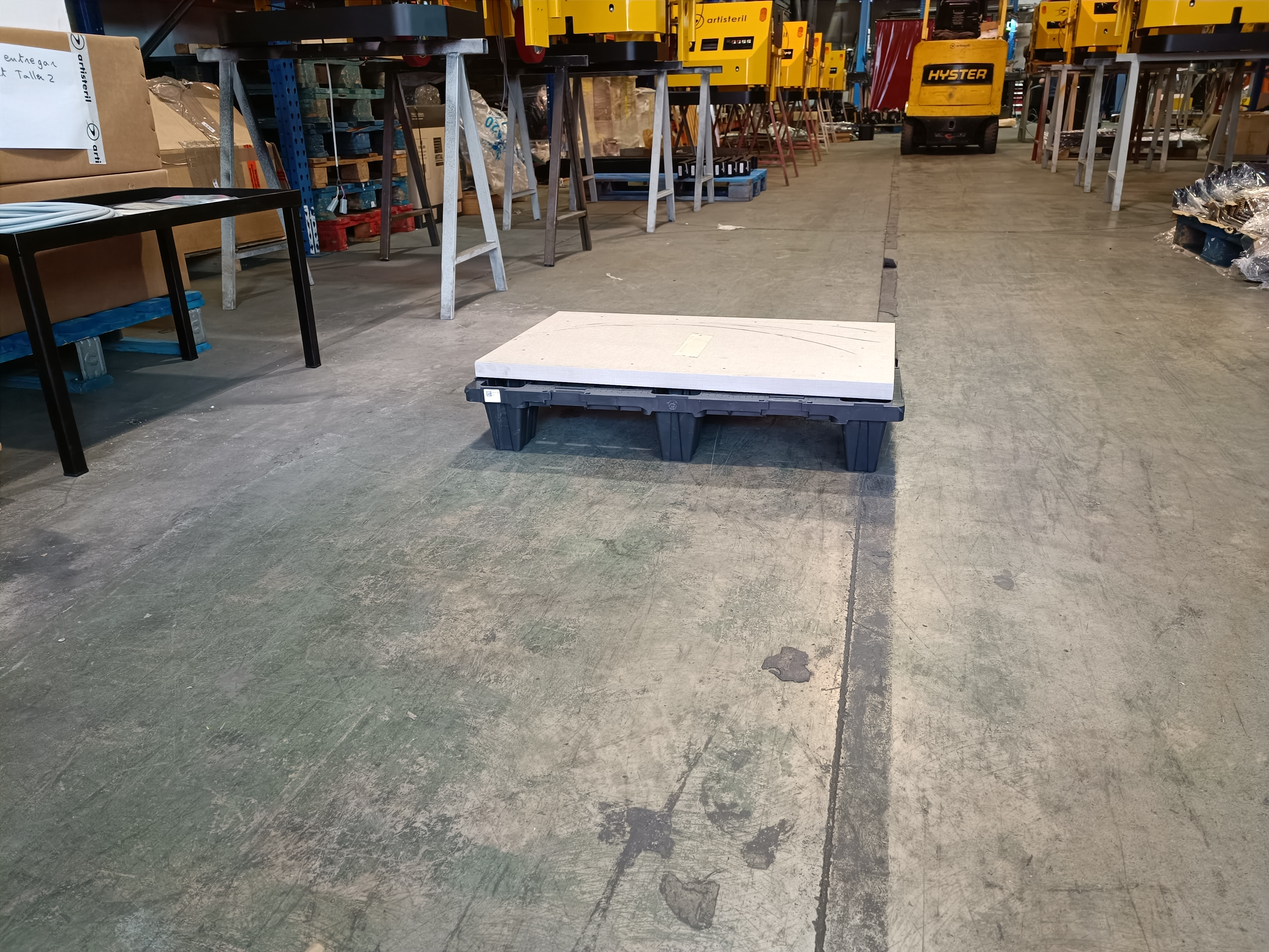block: (478, 403, 541, 456), (838, 426, 901, 473), (647, 420, 698, 467)
front: (463, 389, 897, 475)
hole pallet: (690, 421, 838, 468), (533, 403, 657, 458)
